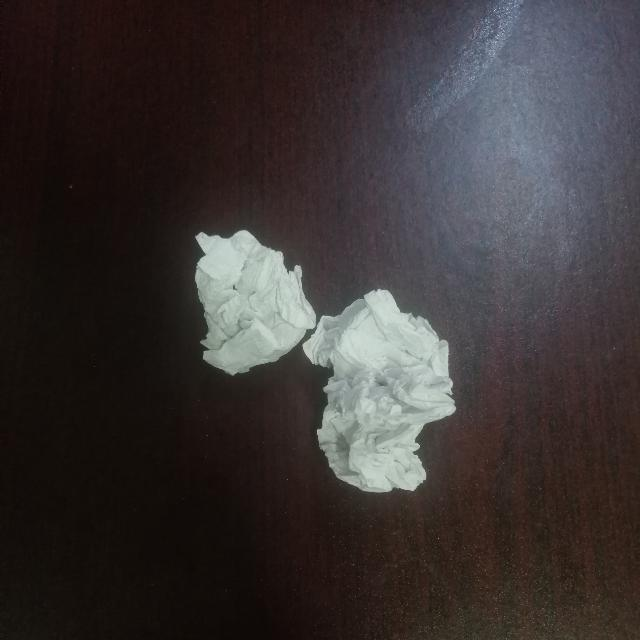kitchen paper: (306, 288, 459, 502), (196, 229, 316, 376)
